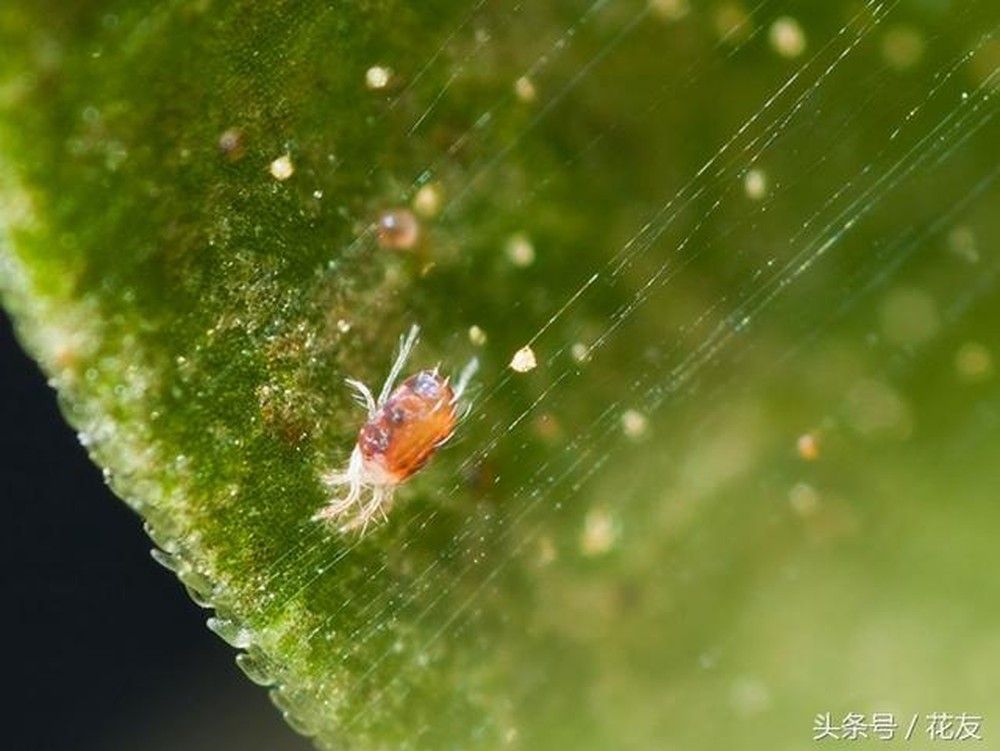Aracnido Rojo: (300, 314, 508, 558)
